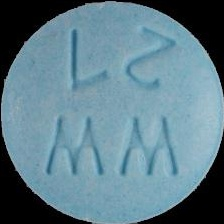63629-1299: (0, 0, 224, 224)
